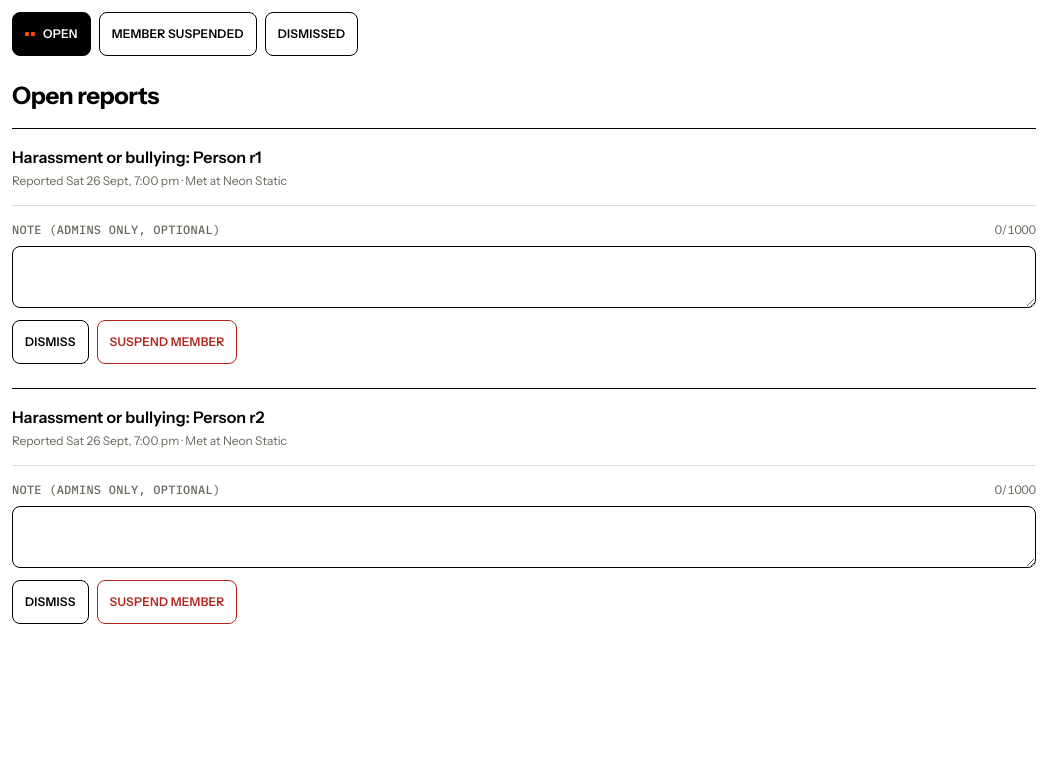
Scenario: Admin: member reports › Dismiss sends the note, removes the report, announces it and focuses the next
The width and height of the screenshot is (1048, 780).
Check: the heading "Harassment or bullying: Person r1" is shown, box [12,147,262,167]
Type " Not a breach " into the text box labelled "Note (admins only, optional)" below "Person r1" at [524, 277], box [12,246,1036,308]
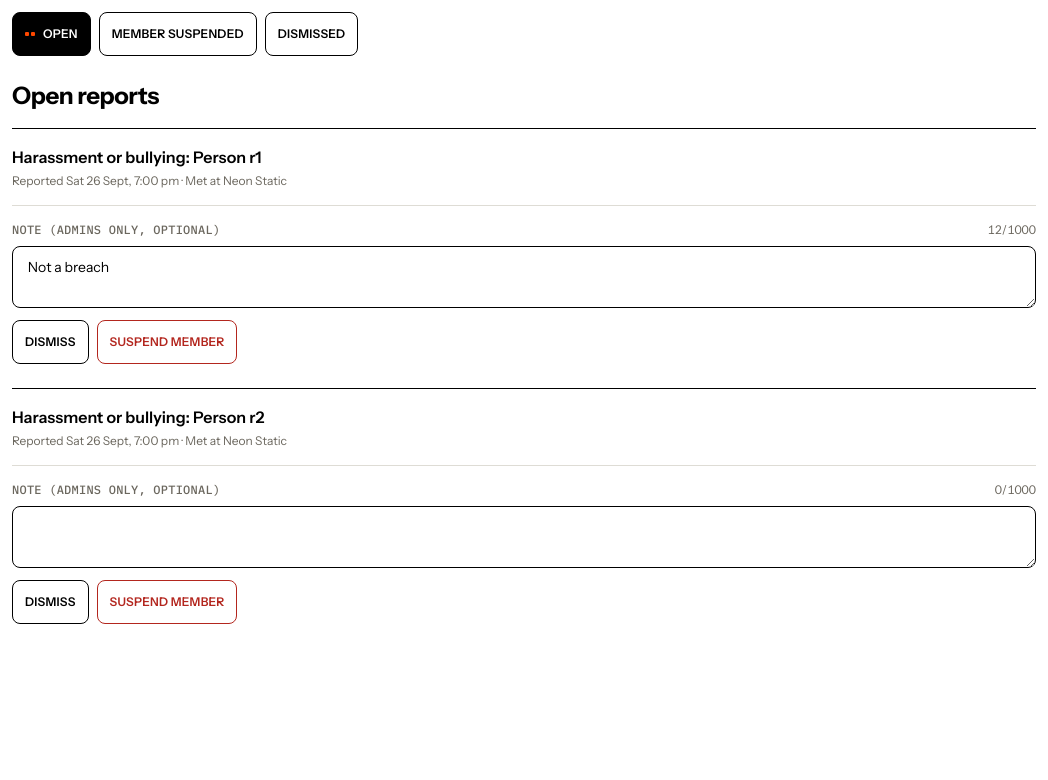
Click the button "Dismiss" below "Person r1" at [50, 342], box [12,320,88,364]
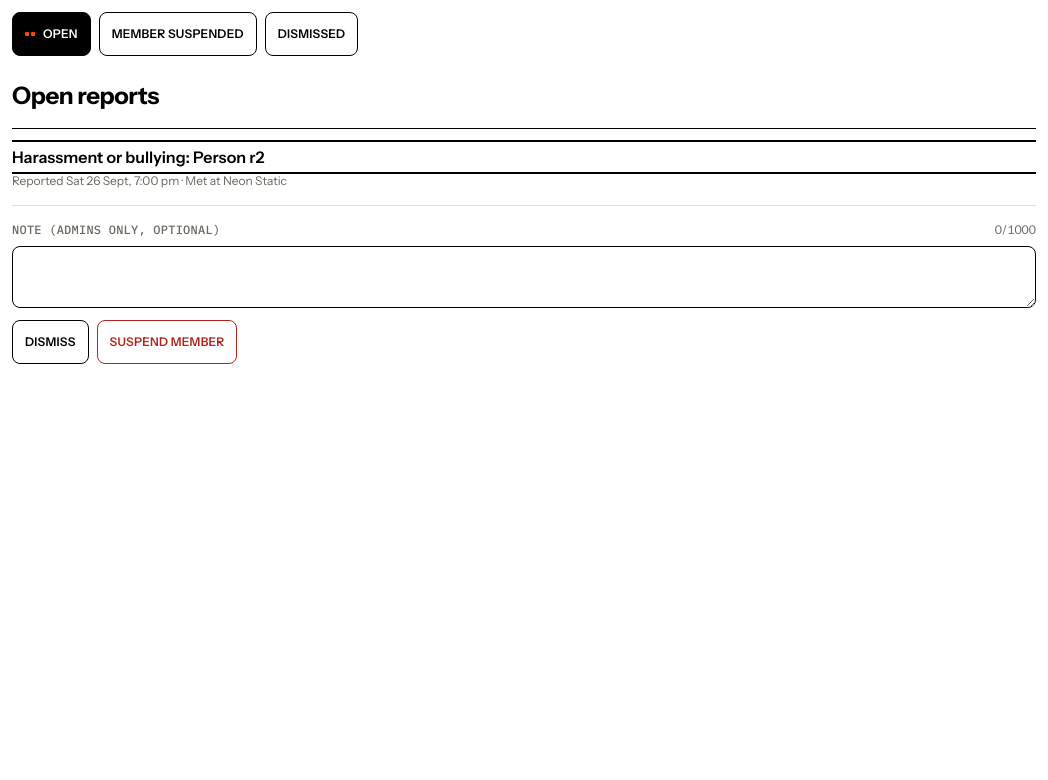
Check: the heading "Person r1" is gone
